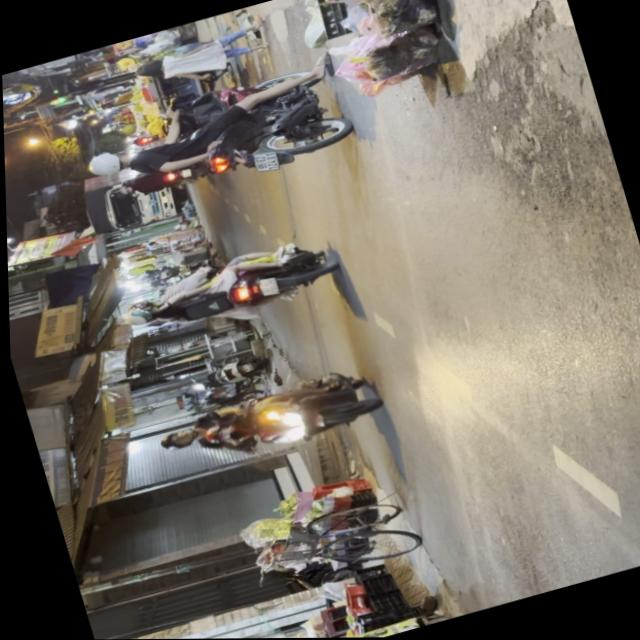helmet: (82, 148, 128, 182), (152, 428, 194, 455), (120, 301, 159, 330), (197, 421, 235, 448)
licenseplate: (66, 53, 359, 222), (144, 361, 385, 482), (109, 232, 341, 352)
nohelmet: (249, 149, 277, 175), (254, 278, 275, 298)
